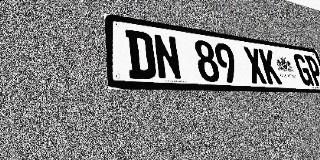8: (193, 39, 221, 82)
9: (213, 42, 240, 83)
D: (125, 29, 157, 79)
G: (292, 53, 315, 86)
K: (258, 48, 282, 85)
N: (152, 33, 183, 81)
P: (304, 55, 320, 86)
X: (242, 46, 268, 84)
